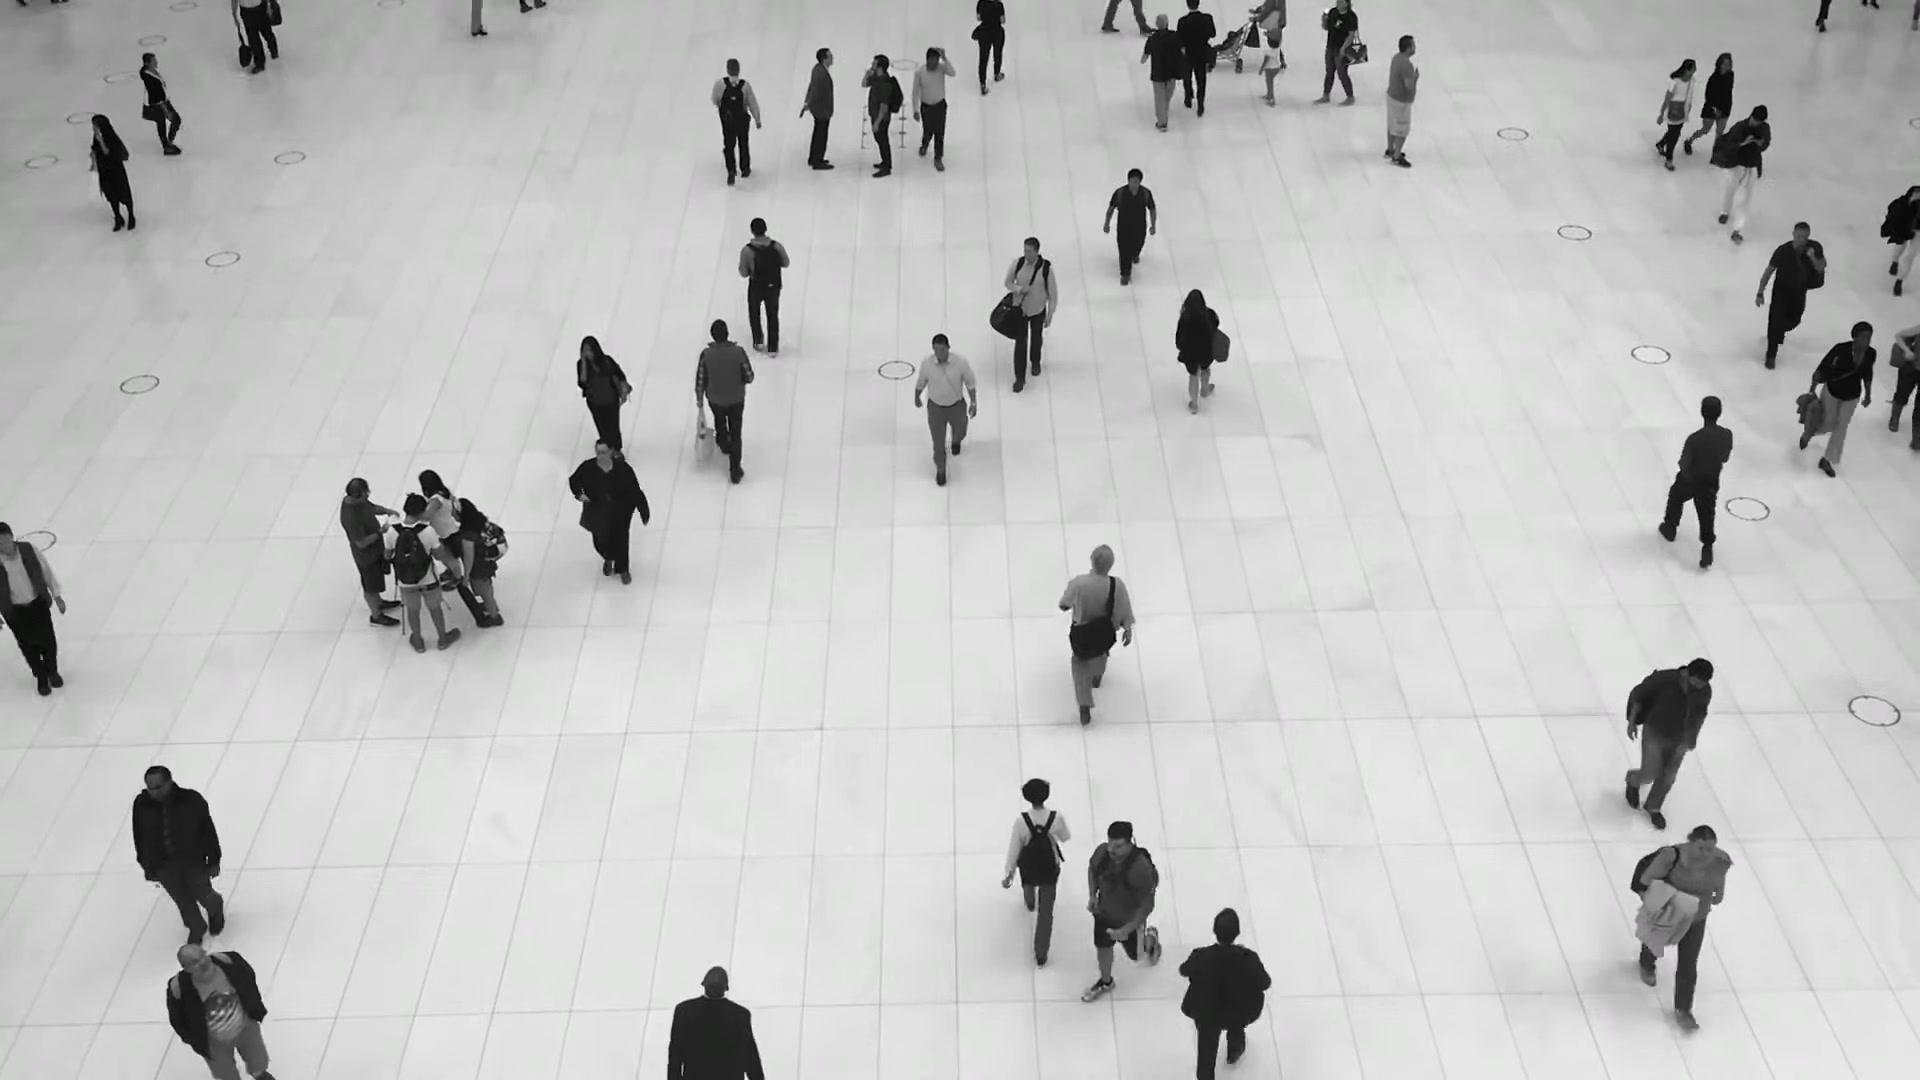person: (136, 768, 233, 962), (1615, 658, 1711, 834), (1175, 907, 1272, 1074), (1637, 823, 1728, 1000), (1077, 818, 1163, 1002), (1659, 396, 1740, 571), (1055, 545, 1135, 723), (167, 941, 270, 1079), (567, 439, 651, 593), (1798, 321, 1874, 486), (384, 494, 460, 652), (1007, 778, 1073, 956), (0, 521, 67, 695), (665, 965, 765, 1080), (1755, 223, 1826, 376), (917, 332, 980, 485), (339, 477, 402, 629), (694, 318, 752, 478), (1711, 102, 1771, 242), (1002, 236, 1057, 385), (738, 220, 791, 363), (451, 497, 503, 627), (1104, 166, 1159, 285), (705, 60, 756, 191), (1170, 289, 1221, 411), (576, 337, 633, 445), (139, 53, 195, 156), (89, 114, 136, 232), (910, 48, 954, 176), (1140, 12, 1186, 129), (1685, 53, 1733, 165), (1311, 0, 1359, 108), (1653, 58, 1699, 172), (861, 56, 902, 180), (418, 470, 459, 592), (1383, 34, 1420, 168), (1177, 0, 1217, 120), (799, 48, 835, 172), (973, 0, 1006, 98), (1249, 0, 1287, 73), (1257, 37, 1281, 106)
